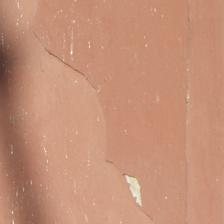Crack: (17, 21, 98, 126), (16, 6, 146, 44)
